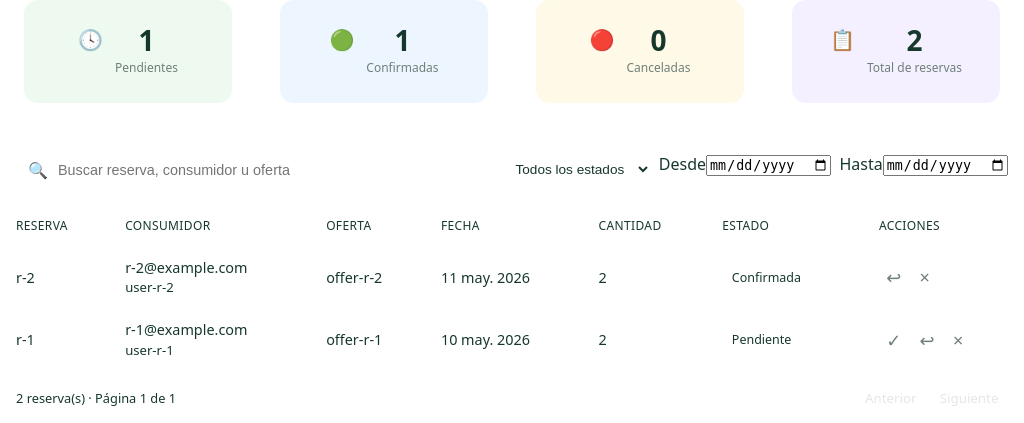
Test: ReservationsPanel › combines text, status, and date filters
The image size is (1024, 423).
In the field named "Buscar reservas": (267, 170) [56,161,477,179], type "r-1"
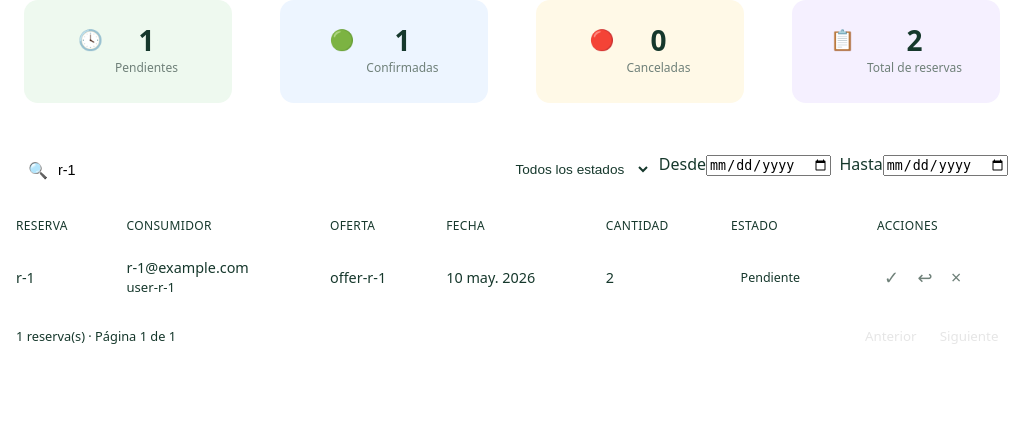
Select "Pendiente" in the dropdown named "Filtrar reservas por estado": (576, 170) [501,153,651,186]
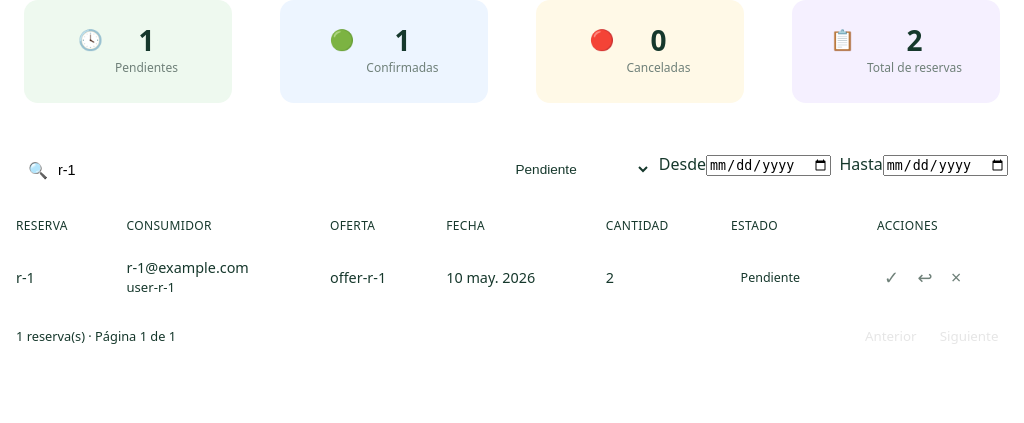
In the date field named "Desde la fecha de reserva": (769, 166) [706,155,831,176], type "2026-05-10"
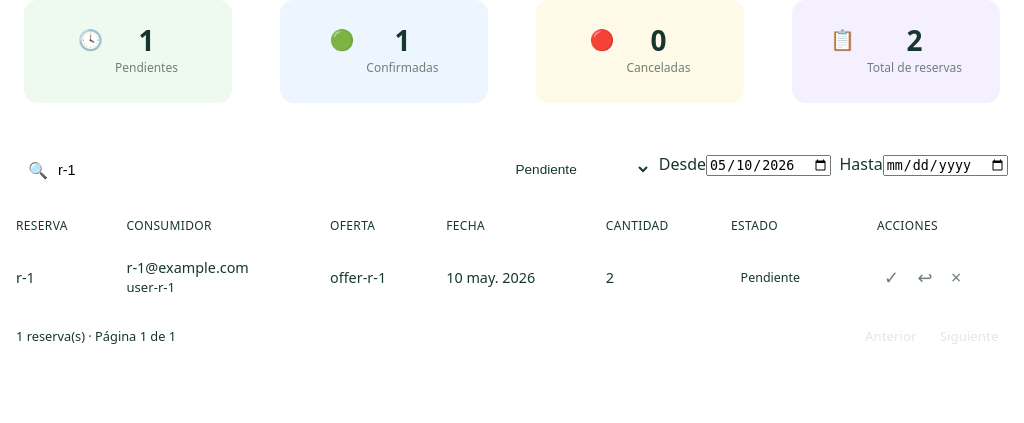
In the date field named "Hasta la fecha de reserva": (945, 166) [883,155,1008,176], type "2026-05-10"
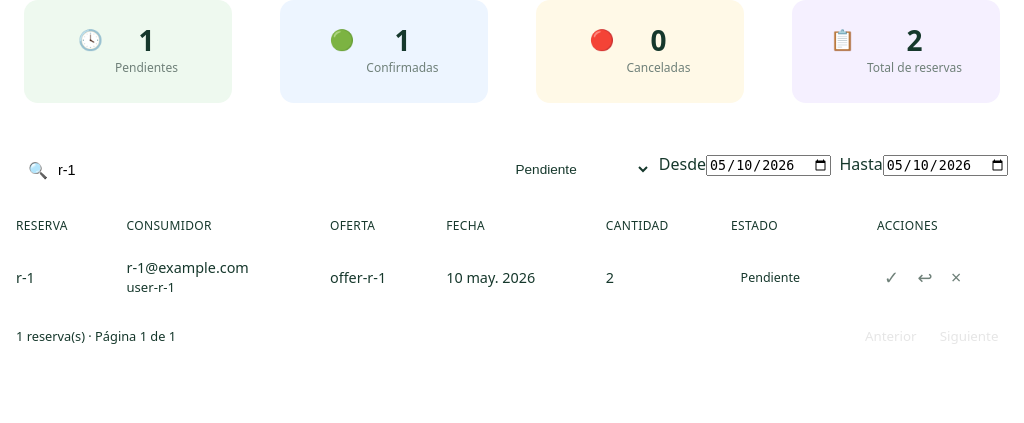
Expected: the text "r-1" is shown, [16,268,35,287]
Expected: the text "r-2" is not shown
In the date field named "Hasta la fecha de reserva": (945, 166) [883,155,1008,176], type "2026-05-09"
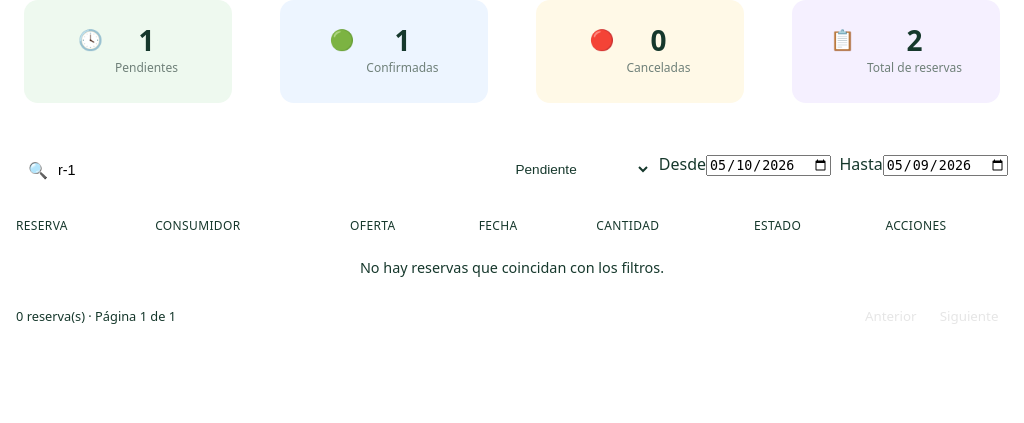
Result: the text "No hay reservas que coincidan con los filtros." is shown at [0,246,1023,289]
